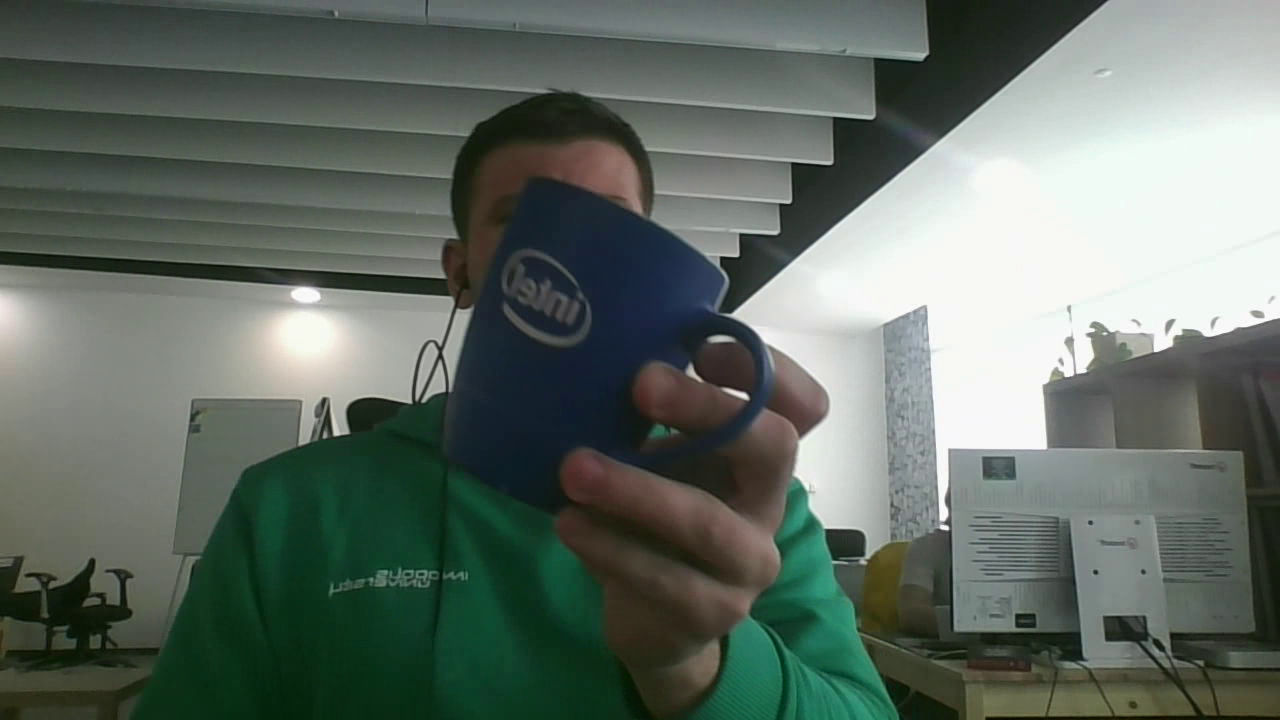cup: (439, 173, 777, 508)
